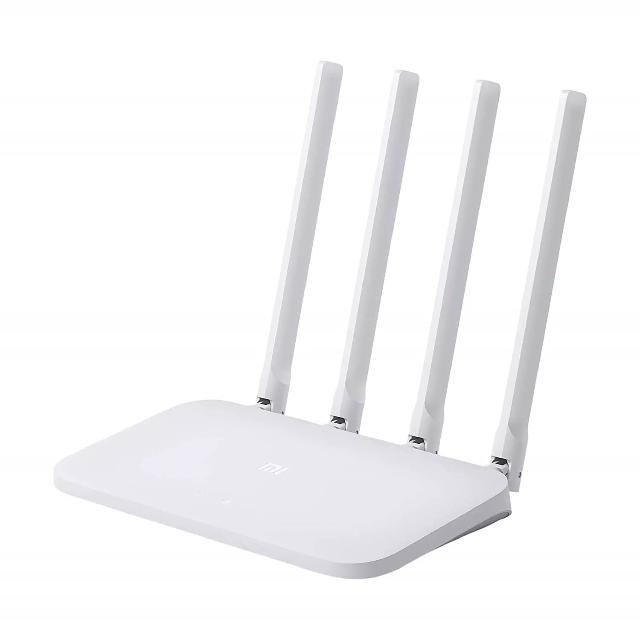Router: (53, 58, 591, 582)
